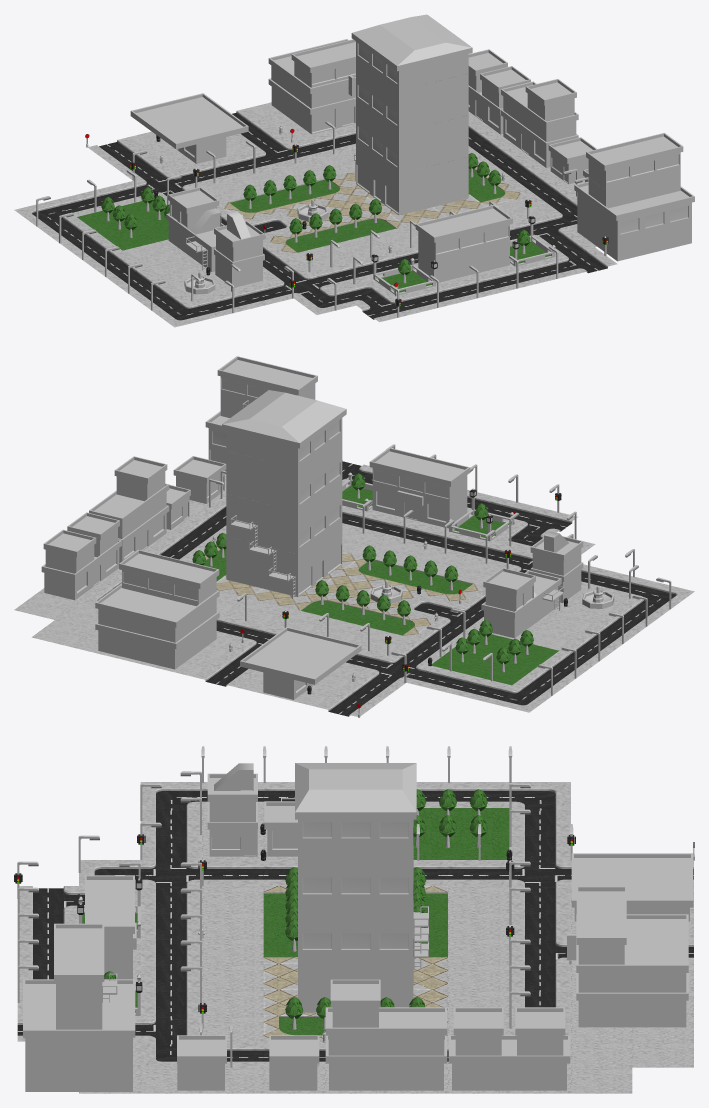
File: EJ_ModularCity_FBXExport.fbx
3 views of the same model, one above another, from view 1: azimuth 30°, elevation 25°; view 2: azimuth 150°, elevation 25°; view 3: azimuth 270°, elevation 25° (orthographic). The views are drawn at different scales.
Visible parts, largest first — view 1: ModularCity_CombinedForFBX; view 2: ModularCity_CombinedForFBX; view 3: ModularCity_CombinedForFBX.
Boxes of the visible parts, x1,y1,x2,y2 form: ModularCity_CombinedForFBX: [14, 14, 694, 327]; ModularCity_CombinedForFBX: [14, 356, 694, 717]; ModularCity_CombinedForFBX: [14, 746, 694, 1093].
Bounding box in the file's own units: 12 × 3.83 × 11.08.
